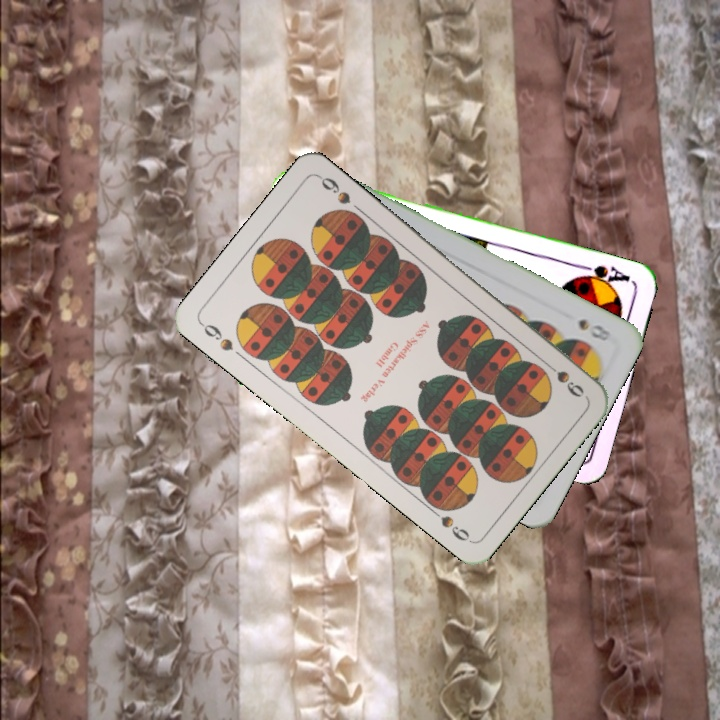S8: (574, 314, 614, 344)
S9: (538, 356, 587, 400), (196, 318, 236, 354)
SA: (573, 260, 633, 291)
